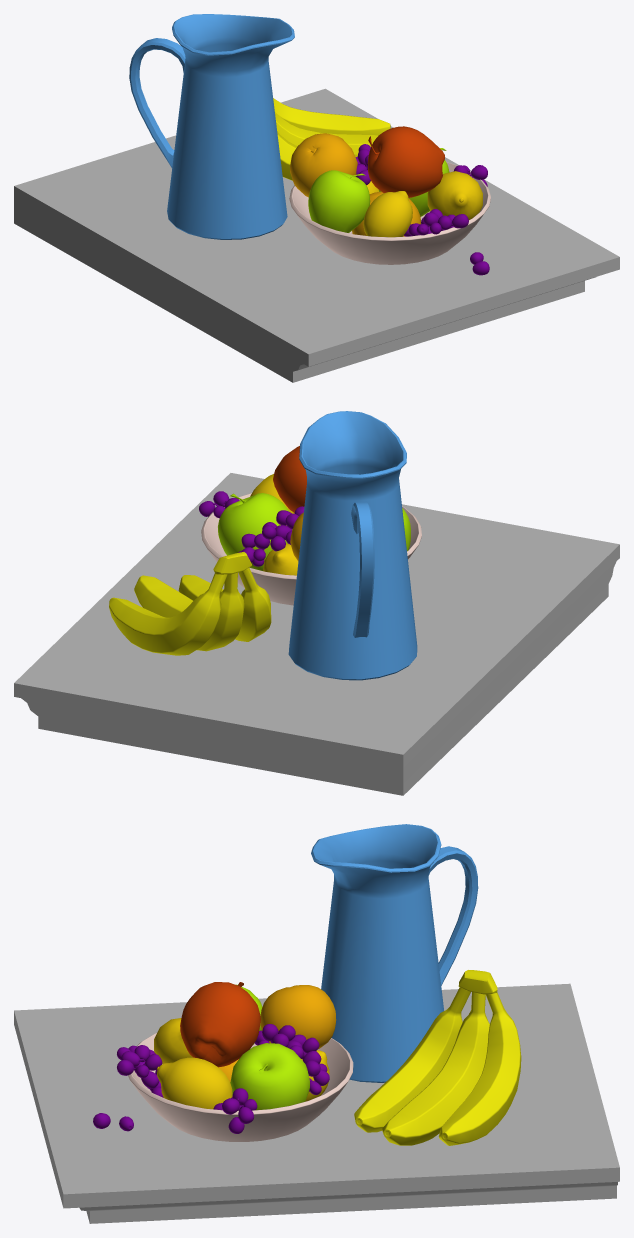
Rendered from fruit bowl 2.fbx.
3 views of the same model, one above another, from view 1: azimuth 30°, elevation 25°; view 2: azimuth 150°, elevation 25°; view 3: azimuth 270°, elevation 25° (orthographic). The views are drawn at different scales.
Visible parts, largest first — view 1: tabletop1, pitcher1, bowl, apple1, banana_bunch, apple2, orange, lemon1, lemon3; view 2: tabletop1, pitcher1, banana_bunch, apple, bowl, apple1, lemon2; view 3: tabletop1, pitcher1, banana_bunch, bowl, apple1, apple, orange, lemon1, lemon3.
Part boxes in pixels (box(x1,y1,x2,y2)): tabletop1: box(14, 88, 619, 382); pitcher1: box(129, 14, 294, 239); bowl: box(289, 162, 490, 264); apple1: box(367, 126, 444, 197); banana_bunch: box(273, 98, 390, 180); apple2: box(308, 170, 370, 232); orange: box(290, 133, 357, 197); lemon1: box(427, 171, 482, 219); lemon3: box(363, 191, 412, 237); tabletop1: box(14, 473, 619, 795); pitcher1: box(288, 411, 417, 680); banana_bunch: box(109, 552, 271, 655); apple: box(218, 493, 292, 570); bowl: box(201, 493, 421, 605); apple1: box(273, 446, 306, 512); lemon2: box(263, 543, 298, 575); tabletop1: box(14, 983, 619, 1223); pitcher1: box(311, 824, 478, 1082); banana_bunch: box(354, 970, 521, 1145); bowl: box(128, 1033, 353, 1141); apple1: box(180, 982, 260, 1067); apple: box(230, 1043, 309, 1110); orange: box(260, 985, 336, 1048); lemon1: box(157, 1057, 232, 1109); lemon3: box(154, 1018, 192, 1064).
Bounding box in the file's own units: 18.95 × 10.89 × 23.04.
